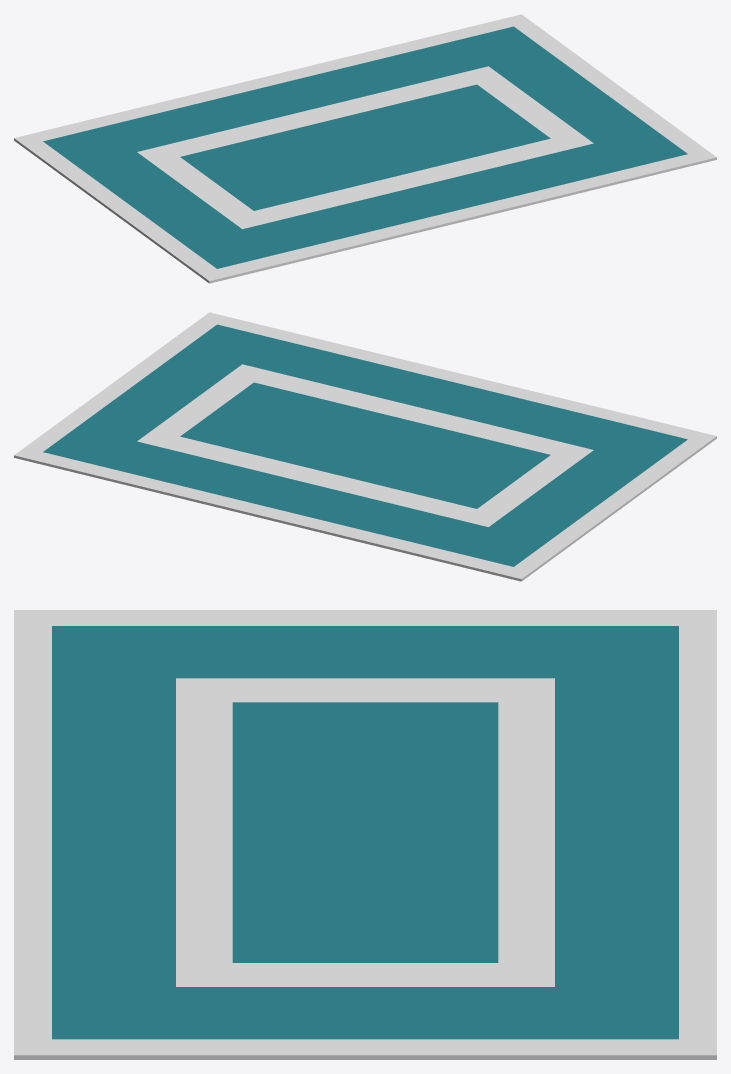
File: cloth_mat.fbx
The picture shows the model from 3 angles, top to bottom: view 1: azimuth 30°, elevation 25°; view 2: azimuth 150°, elevation 25°; view 3: azimuth 270°, elevation 25°; orthographic projection. The views are drawn at different scales.
Visible parts, largest first — view 1: Catpet_03; view 2: Catpet_03; view 3: Catpet_03.
Part boxes in pixels (box(x1,y1,x2,y2)): Catpet_03: box(14, 14, 716, 283); Catpet_03: box(14, 312, 716, 581); Catpet_03: box(14, 610, 716, 1059).
Bounding box in the file's own units: 307 × 1.43 × 205.
